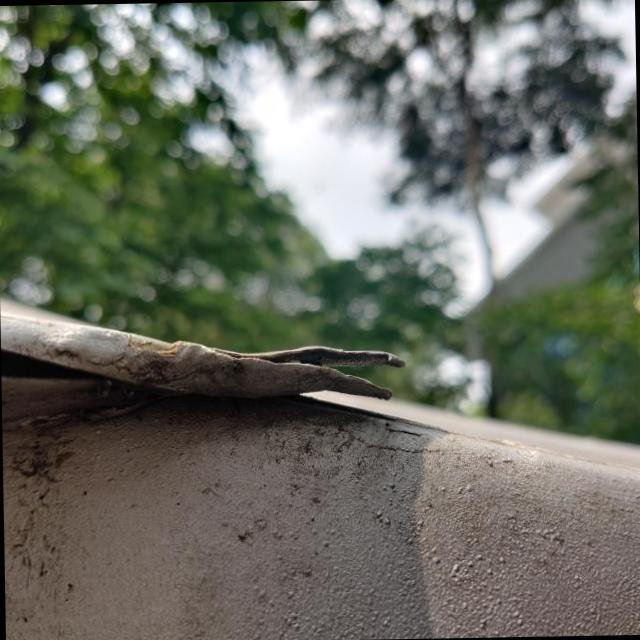Crack: (251, 346, 405, 368), (337, 376, 390, 398)
